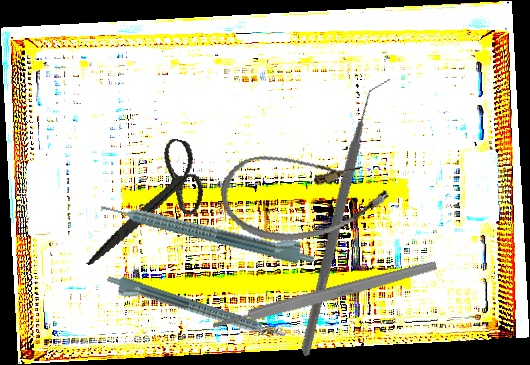Cannula: (215, 133, 394, 253)
Chopper: (230, 78, 464, 357)
Handpiece: (99, 190, 318, 269), (103, 271, 287, 350)
Iris Scissors: (86, 125, 214, 287)
Scalpel Handle: (211, 258, 438, 332)
